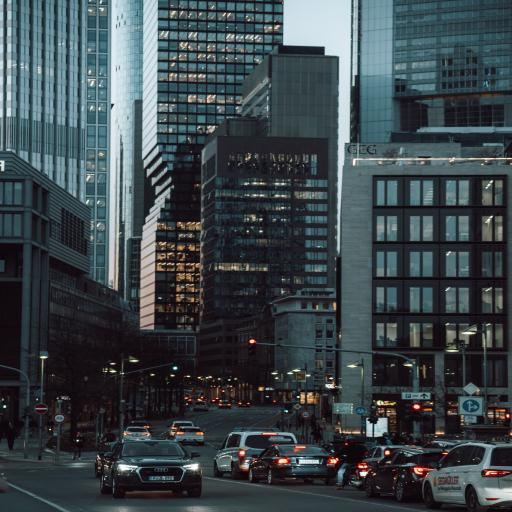car: (423, 441, 511, 511), (100, 440, 201, 498), (214, 428, 297, 479), (365, 448, 443, 502), (249, 444, 336, 485), (363, 446, 417, 463), (95, 442, 117, 478), (424, 439, 468, 452), (174, 427, 204, 445), (168, 421, 194, 438), (124, 427, 151, 438), (128, 421, 150, 431), (193, 401, 209, 411), (219, 400, 231, 408), (238, 401, 250, 407), (210, 398, 220, 403)
